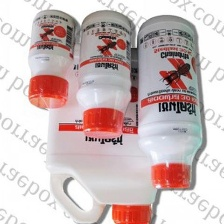insecticide: (42, 39, 168, 224), (132, 10, 209, 193), (73, 6, 134, 142), (23, 7, 78, 109)
